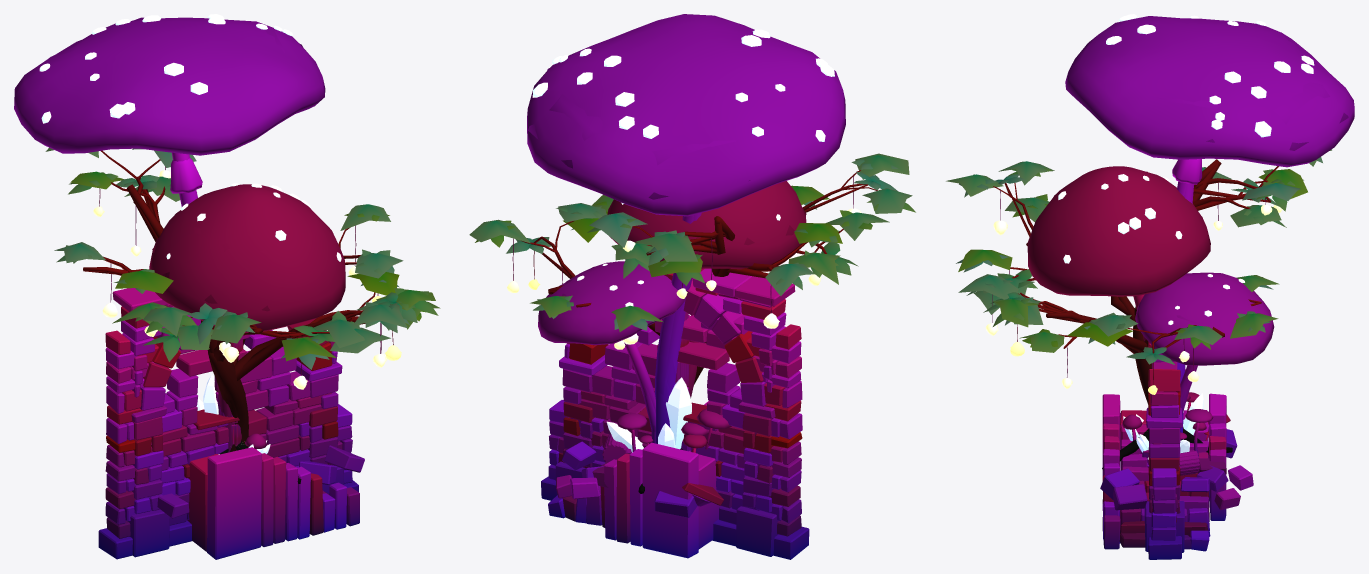
The model's file is biomes.glb.
3 renders of one model, left to right at view 1: azimuth 30°, elevation 25°; view 2: azimuth 150°, elevation 25°; view 3: azimuth 270°, elevation 25°, orthographic. The views are drawn at different scales.
Visible parts, largest first — view 1: GiantMushroomA_hi, RuinWall, GiantMushroomB_hi, RuinSteps, LanternTree_lo, RuinArch, LanternTree_hi, CrystalA_hi; view 2: GiantMushroomA_hi, RuinWall, RuinArch, GiantMushroomB_hi, LanternTree_lo, RuinSteps, LanternTree_hi, GiantMushroomA_lo, CrystalA_hi, RuinColumnBroken, GiantMushroomB_lo; view 3: GiantMushroomA_hi, GiantMushroomB_hi, LanternTree_lo, RuinSteps, LanternTree_hi, RuinArch, RuinWall, GiantMushroomA_lo, CrystalA_hi, RuinColumnBroken, GiantMushroomB_lo.
Boxes of the visible parts, bbox=[...] form: GiantMushroomA_hi: bbox=[14, 14, 325, 448]; RuinWall: bbox=[98, 326, 364, 559]; GiantMushroomB_hi: bbox=[149, 183, 345, 416]; RuinSteps: bbox=[187, 447, 359, 559]; LanternTree_lo: bbox=[45, 147, 440, 451]; RuinArch: bbox=[112, 288, 344, 557]; LanternTree_hi: bbox=[56, 150, 438, 483]; CrystalA_hi: bbox=[196, 374, 270, 453]; GiantMushroomA_hi: bbox=[527, 14, 845, 452]; RuinWall: bbox=[541, 315, 809, 559]; RuinArch: bbox=[555, 268, 795, 556]; GiantMushroomB_hi: bbox=[538, 181, 806, 445]; LanternTree_lo: bbox=[469, 153, 912, 384]; RuinSteps: bbox=[548, 401, 720, 558]; LanternTree_hi: bbox=[475, 159, 915, 493]; GiantMushroomA_lo: bbox=[528, 32, 750, 452]; CrystalA_hi: bbox=[606, 377, 691, 452]; RuinColumnBroken: bbox=[602, 372, 723, 506]; GiantMushroomB_lo: bbox=[541, 208, 806, 443]; GiantMushroomA_hi: bbox=[1065, 14, 1354, 456]; GiantMushroomB_hi: bbox=[1027, 166, 1274, 440]; LanternTree_lo: bbox=[946, 150, 1331, 440]; RuinSteps: bbox=[1102, 393, 1253, 551]; LanternTree_hi: bbox=[956, 149, 1331, 475]; RuinArch: bbox=[1100, 342, 1237, 552]; RuinWall: bbox=[1113, 353, 1228, 559]; GiantMushroomA_lo: bbox=[1132, 32, 1348, 440]; CrystalA_hi: bbox=[1123, 393, 1208, 459]; RuinColumnBroken: bbox=[1143, 414, 1230, 475]; GiantMushroomB_lo: bbox=[1054, 171, 1252, 440].
Bounding box in the file's own units: 11.81 × 15.71 × 12.91.
